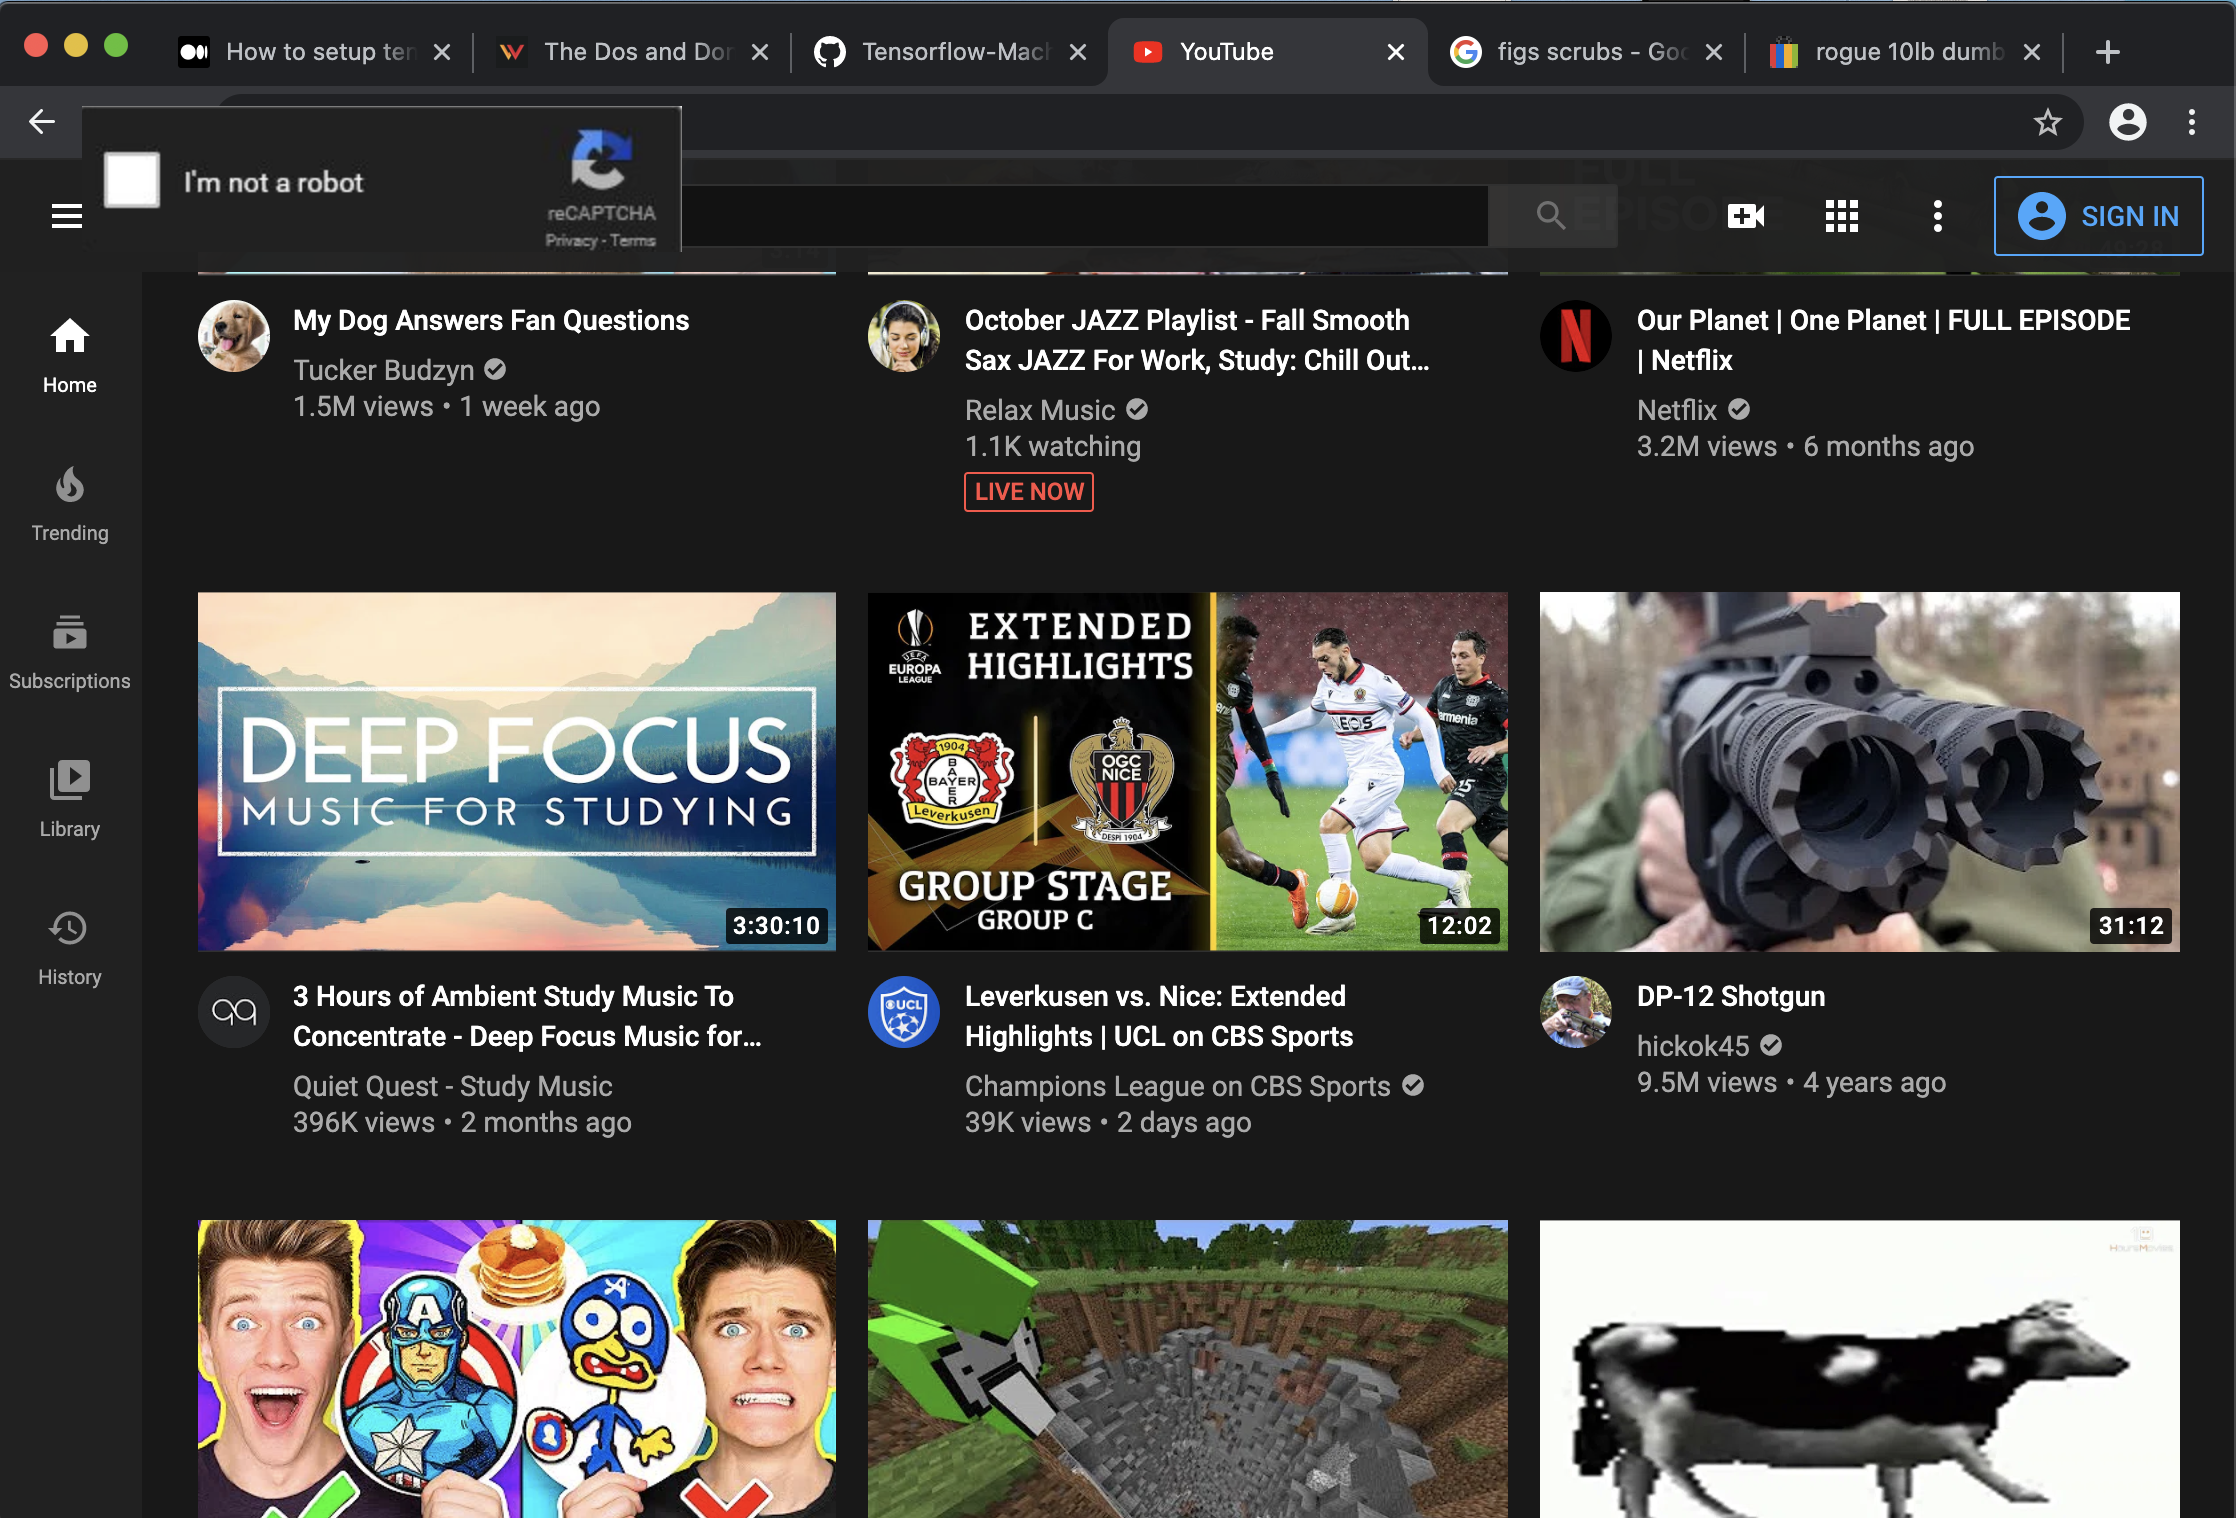captcha: (75, 95, 701, 281)
